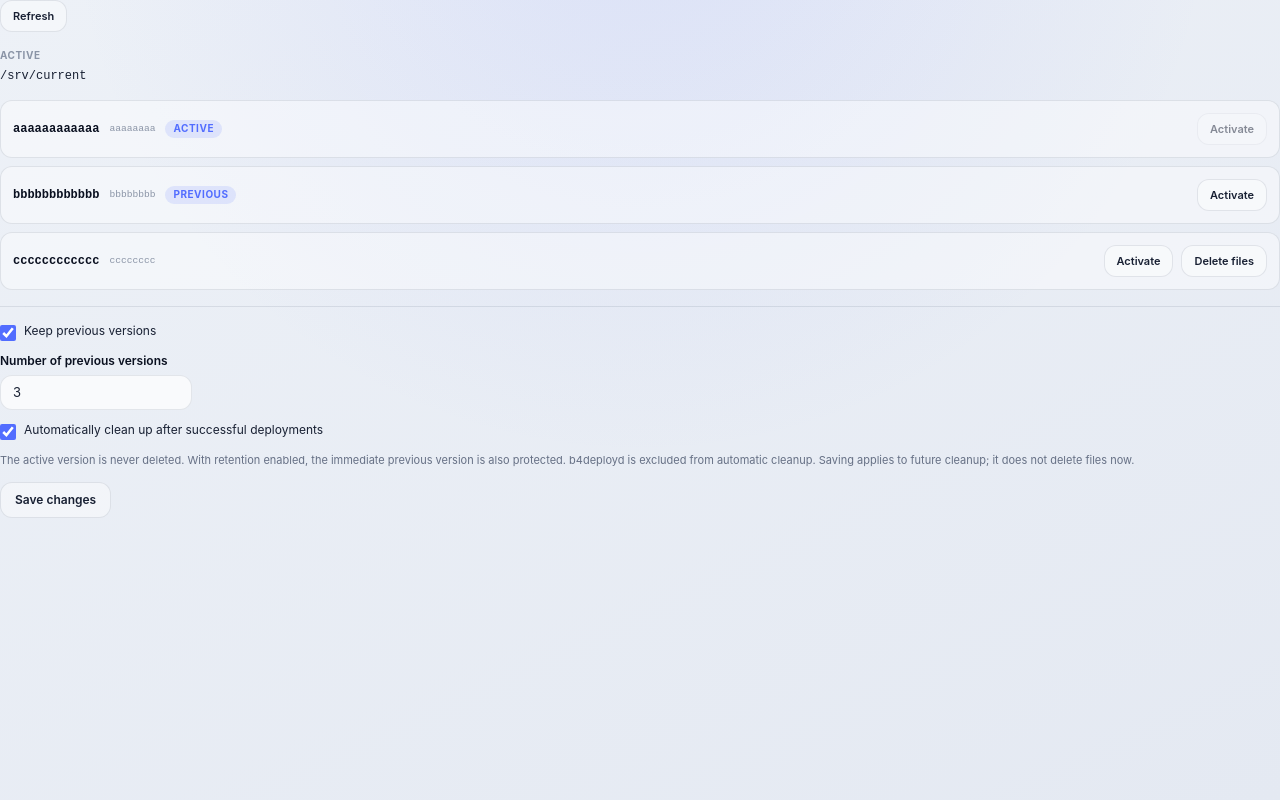
ReleasePanel › protects active and previous releases and confirms manual deletion
The image size is (1280, 800).
Check: the text "aaaaaaaaaaaa" is shown, box x1=13 y1=121 x2=99 y2=137
Check: the button "Activate" in the row of "aaaaaaaaaaaa" is disabled, box x1=1197 y1=113 x2=1267 y2=145
Click the button "Delete files".
click(1224, 261)  # box x1=1182 y1=245 x2=1267 y2=277
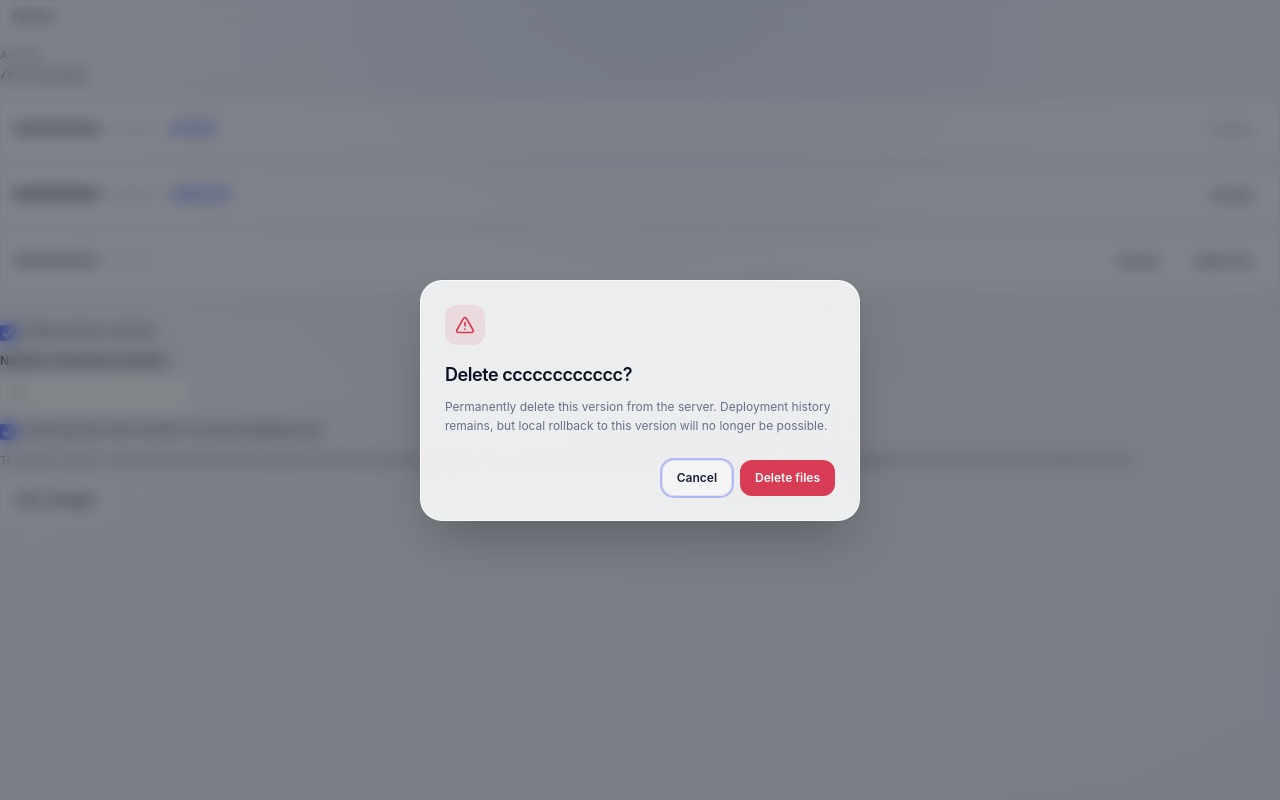
Click the button "Delete files" below "Delete cccccccccccc?".
click(788, 478)  # box x1=740 y1=460 x2=835 y2=496
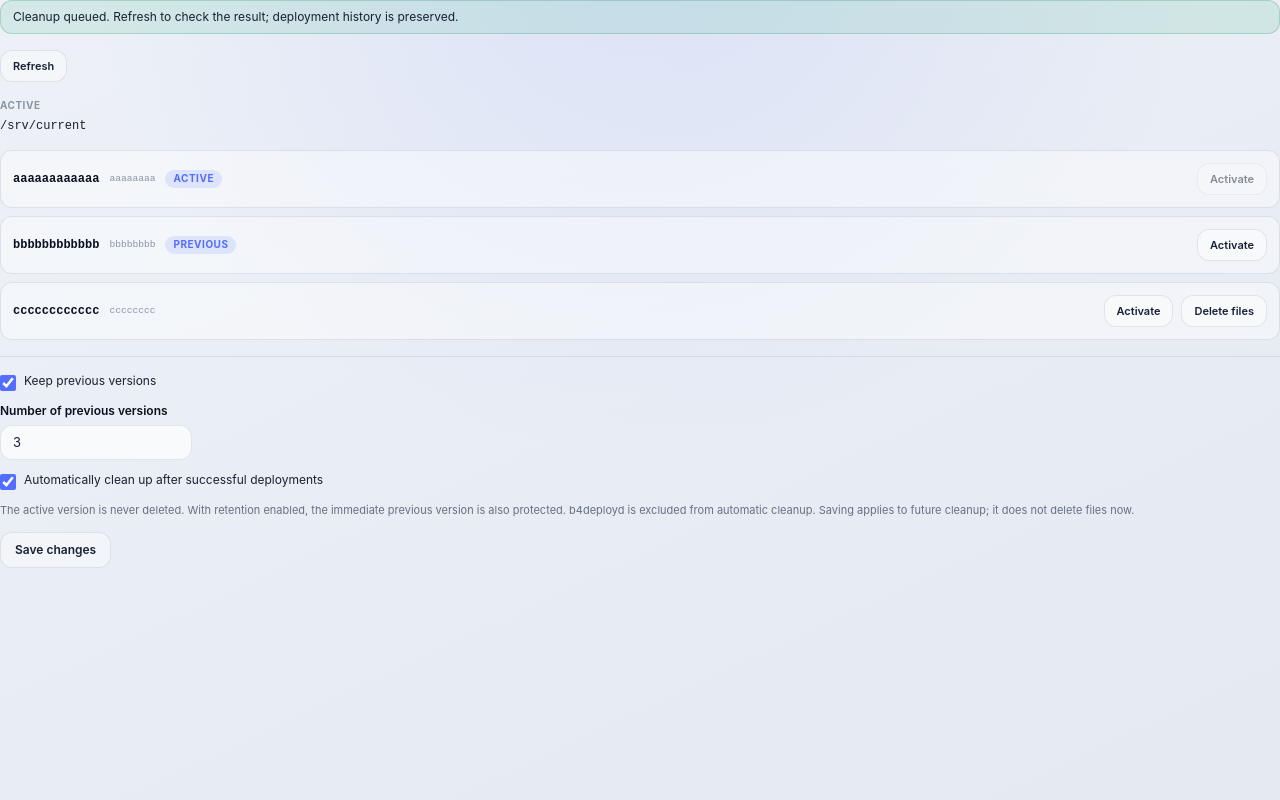
Check: the text "Cleanup queued. Refresh to check the result; deployment history is preserved." is shown, box x1=0 y1=0 x2=1279 y2=34
